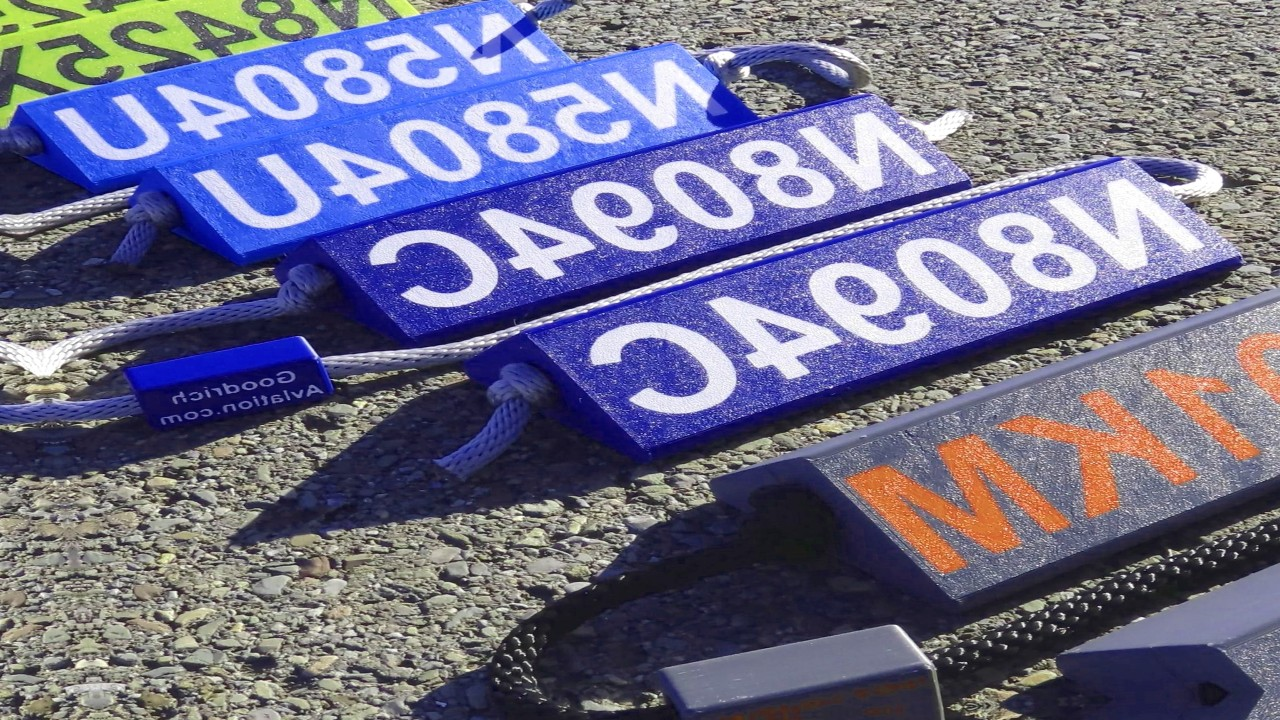chock: (428, 145, 1280, 477), (678, 269, 1280, 633), (243, 89, 999, 359), (107, 39, 779, 276), (0, 0, 600, 197), (0, 0, 455, 125), (1035, 524, 1280, 702), (0, 0, 326, 39)
